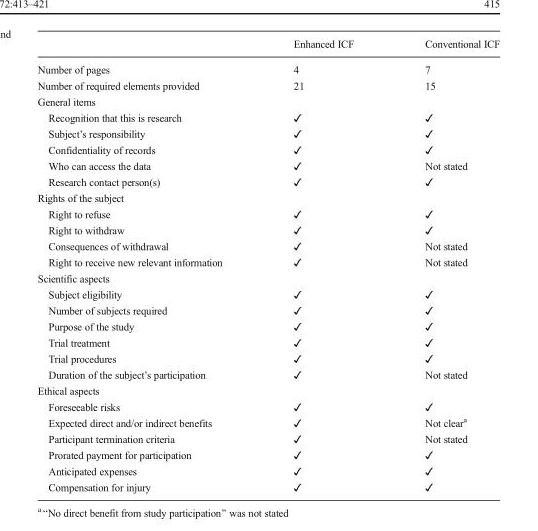table: (36, 37, 499, 492)
table column: (36, 37, 257, 492), (257, 37, 388, 492), (388, 37, 499, 492)
table column header: (36, 37, 499, 56)
table projected row header: (36, 93, 499, 109), (36, 189, 499, 205), (36, 269, 499, 285), (36, 382, 499, 398)
table row: (36, 56, 499, 77), (36, 37, 499, 56), (36, 301, 499, 318), (36, 413, 499, 430), (36, 77, 499, 93), (36, 93, 499, 109), (36, 109, 499, 125), (36, 125, 499, 141), (36, 141, 499, 157), (36, 157, 499, 173), (36, 173, 499, 189), (36, 189, 499, 205), (36, 205, 499, 221), (36, 221, 499, 237), (36, 237, 499, 253), (36, 253, 499, 269), (36, 269, 499, 285), (36, 285, 499, 301), (36, 318, 499, 334), (36, 334, 499, 350), (36, 350, 499, 366), (36, 366, 499, 382), (36, 382, 499, 398), (36, 430, 499, 446), (36, 446, 499, 462), (36, 462, 499, 478), (36, 398, 499, 413), (36, 478, 499, 492)
